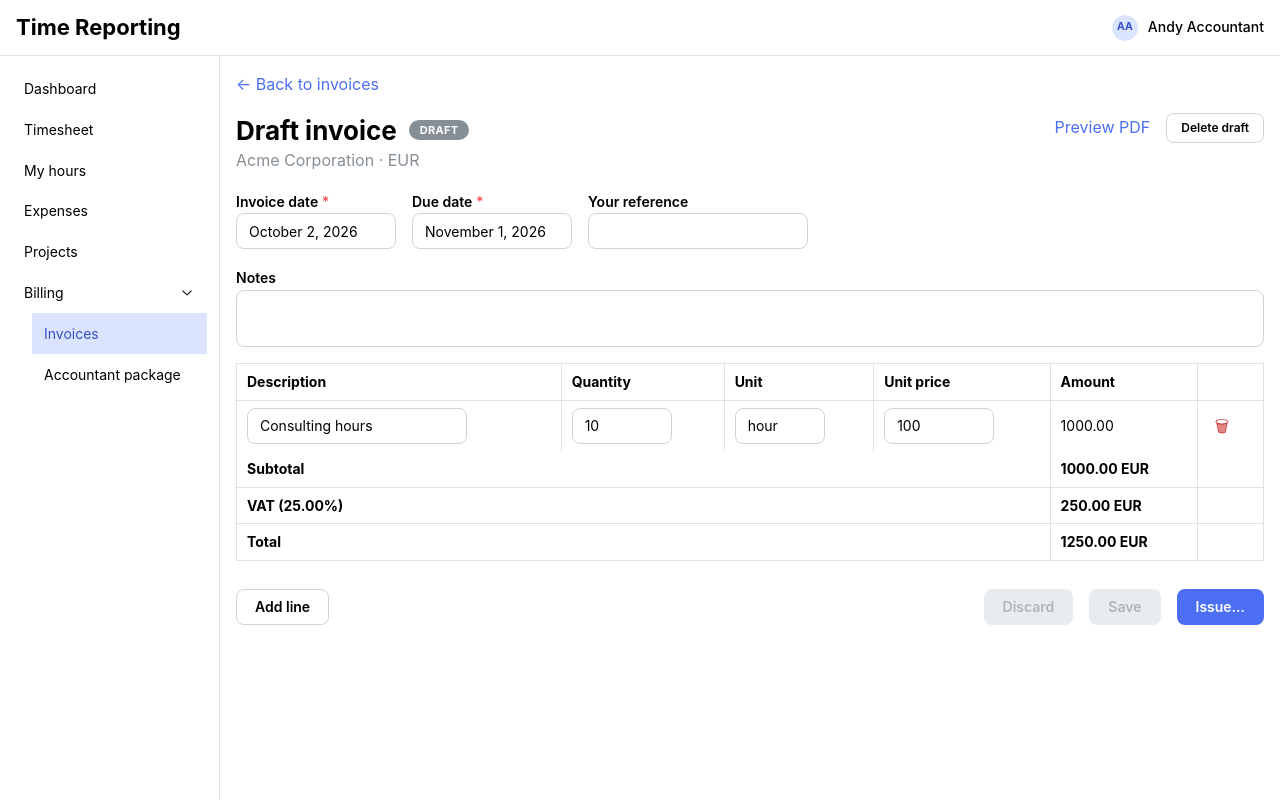
Scenario: InvoicePage › issues the draft after confirmation, saving unsaved changes first
The width and height of the screenshot is (1280, 800).
Replace the text in the field named "Description" with "Updated consulting" at x=357, y=426, box left=247, top=408, right=467, bottom=444
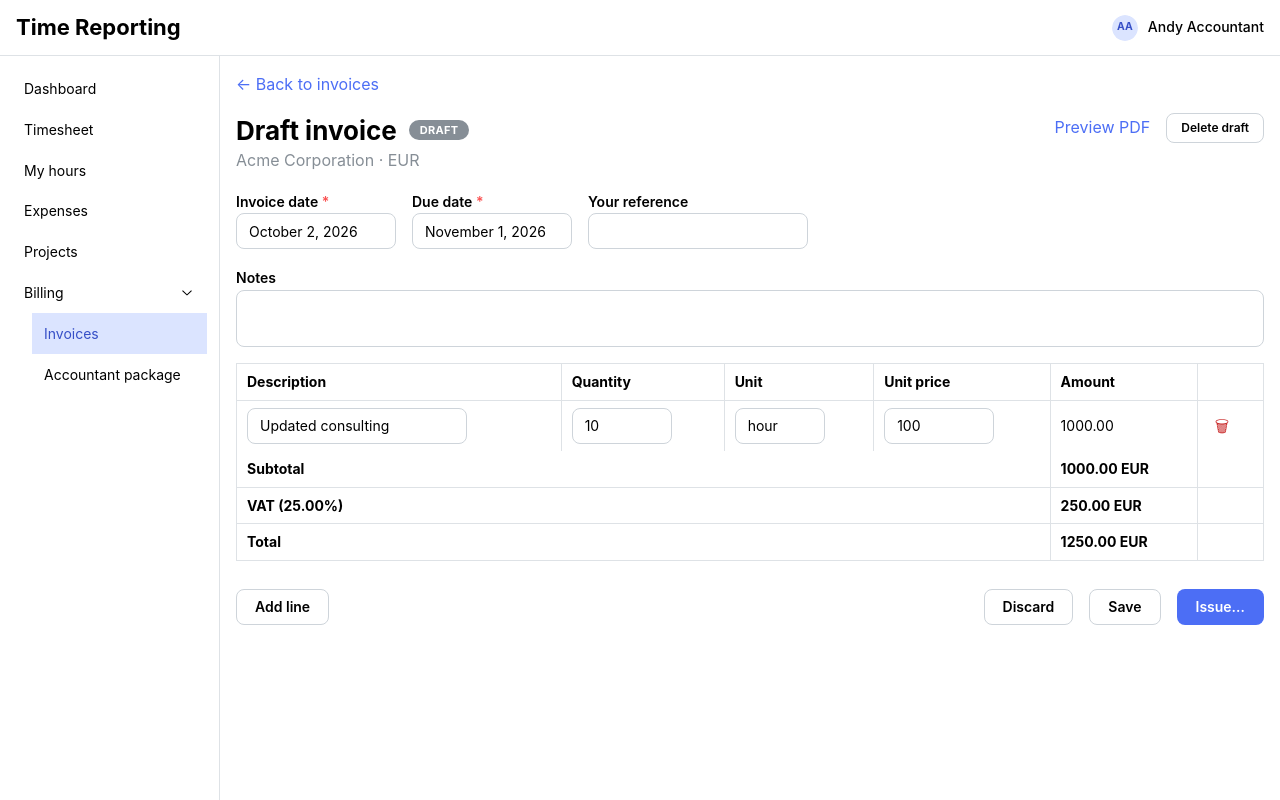
Click the button "Issue…" at x=1220, y=607, box left=1176, top=589, right=1264, bottom=625
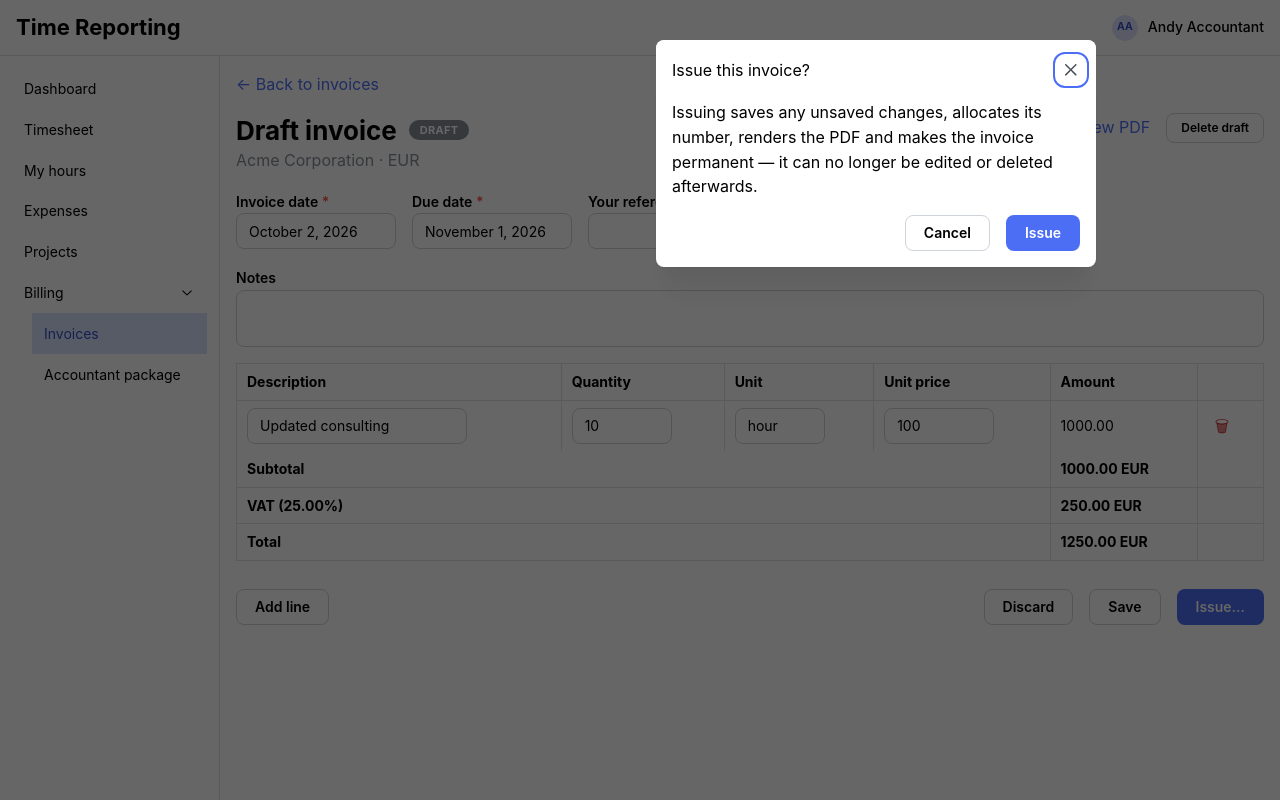
Click the button "Issue" at x=1043, y=233, box left=1006, top=215, right=1080, bottom=251
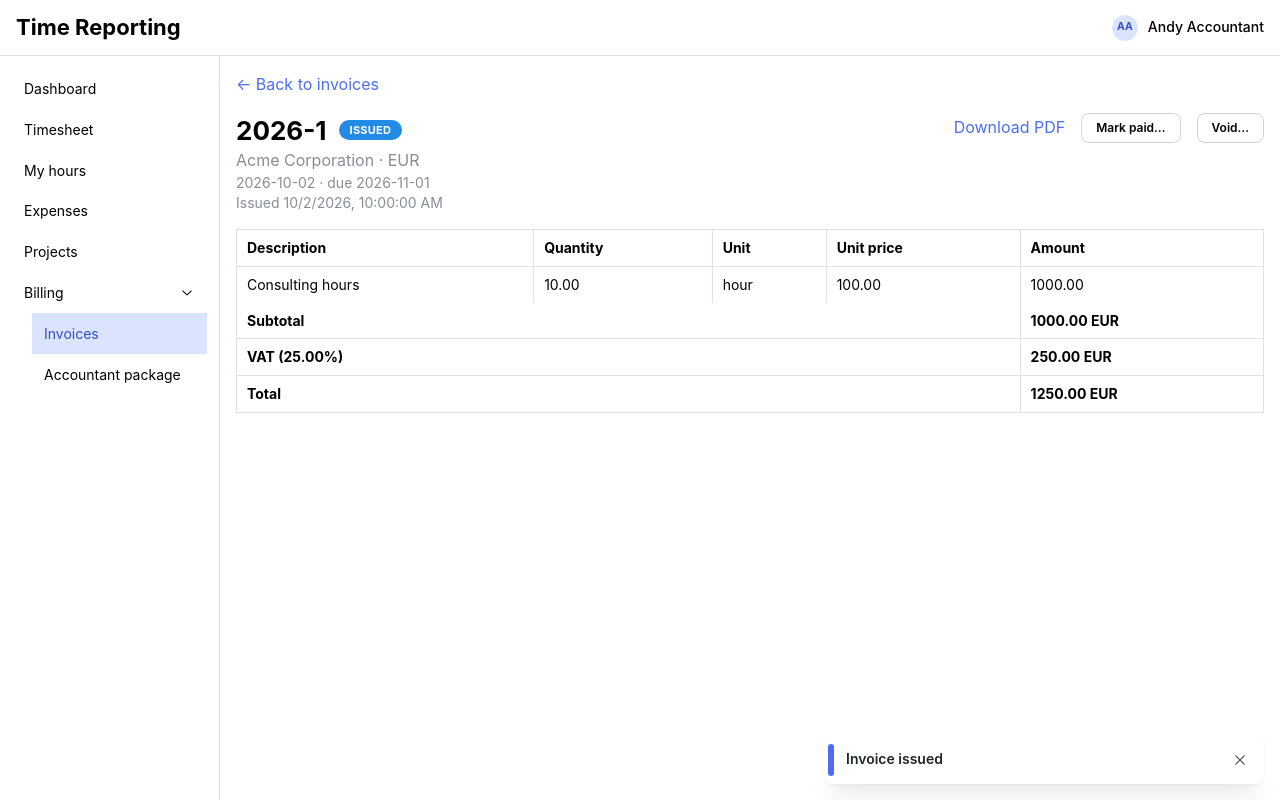
Result: the heading "2026-1" is shown at left=236, top=113, right=326, bottom=148
Result: the button "Save" is gone
